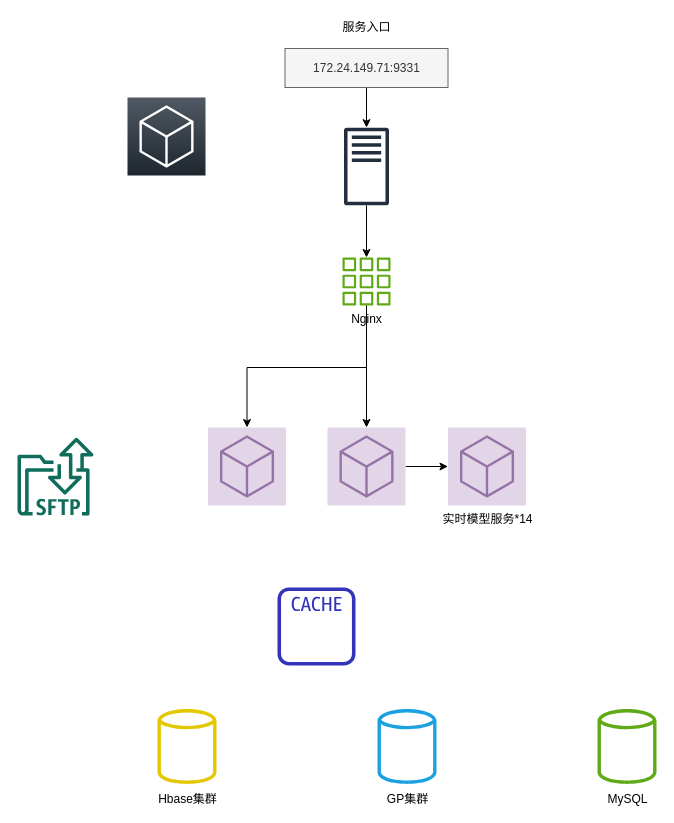
Some shapes in this 674 by 823 pixel diagram are drawn without their labels. Each missing label, with the centre of its shape:
F5硬件负载均衡: (x=366, y=166)
推荐接口服务*7: (x=366, y=466)
画像服务*7: (x=246, y=466)
